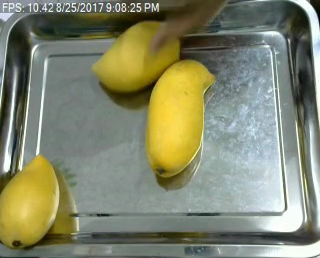Mango: (145, 58, 218, 182), (91, 20, 185, 93), (0, 153, 62, 253)
